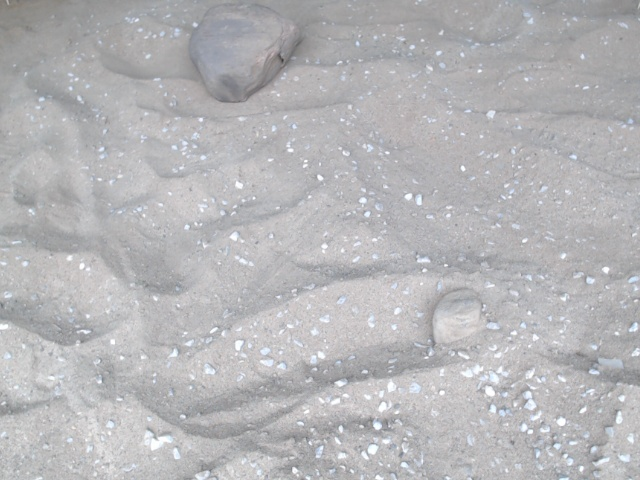rock: (185, 1, 306, 107), (425, 285, 488, 353)
